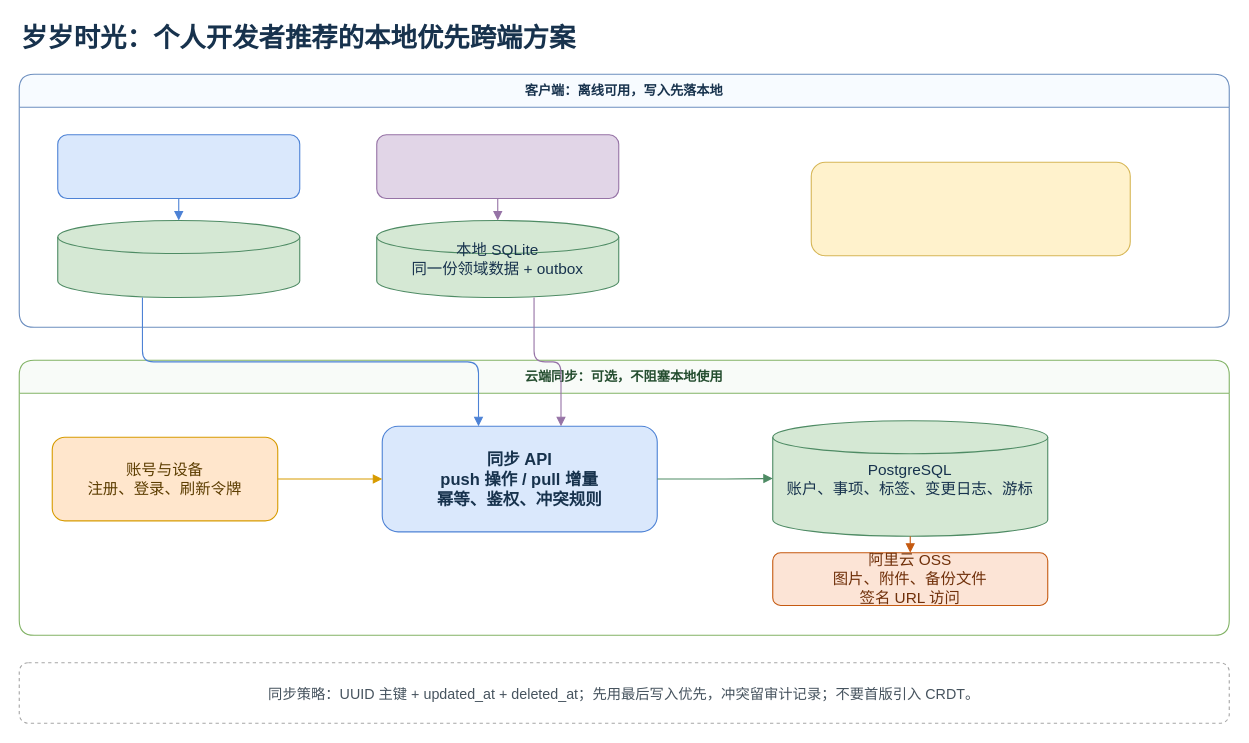
Some shapes in this 1249 by 743 pixel diagram are drawn without their labels. The shapes that lost their labels are listed below. From the top down, each one's centre as x and y in pixels, then its label:
At [178,166]: "桌面端 Tauri + Vue".
At [497,166]: "移动端 UniApp 或 Flutter".
At [970,208]: "本地备份 加密 ZIP / 手动导入导出".
At [178,258]: "本地 SQLite tasks / tags / 会话 / outbox".
